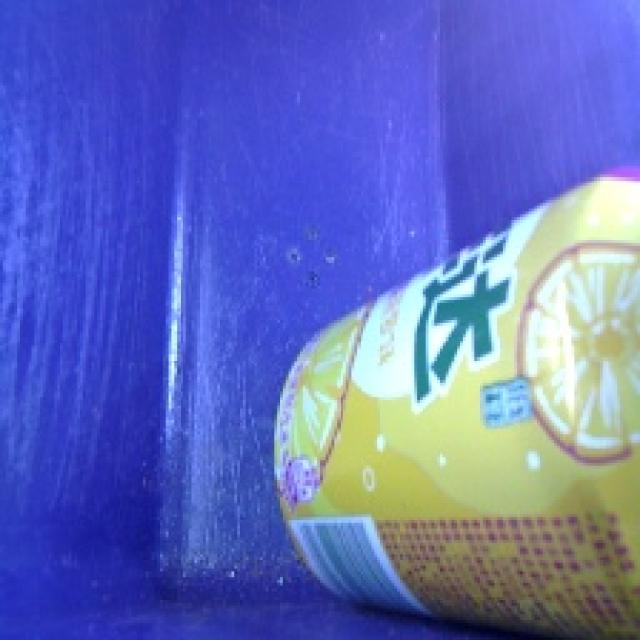metal: (248, 154, 640, 640)
